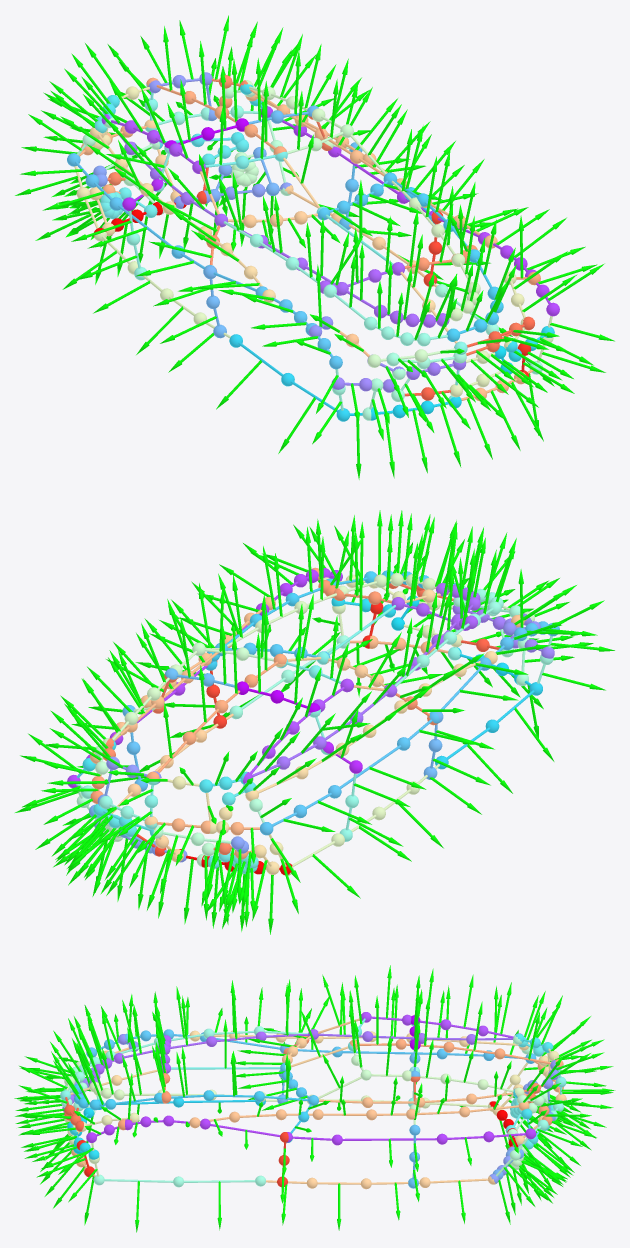
Rendered from ils_car1.gltf.
The picture shows the model from 3 angles, top to bottom: view 1: azimuth 30°, elevation 25°; view 2: azimuth 150°, elevation 25°; view 3: azimuth 270°, elevation 25°; orthographic projection. The views are drawn at different scales.
Size of the model in its own units: 0.5783 by 0.3955 by 1.1.
